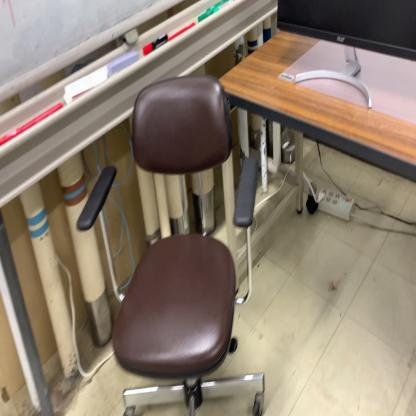chair: (76, 75, 265, 416)
